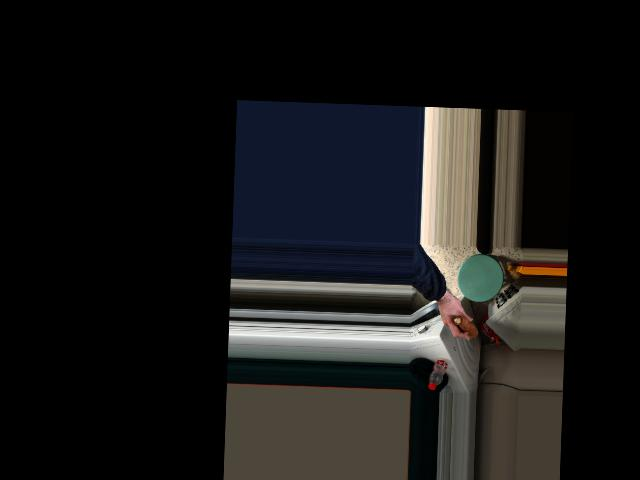sweet_potato: (450, 312, 477, 341)
